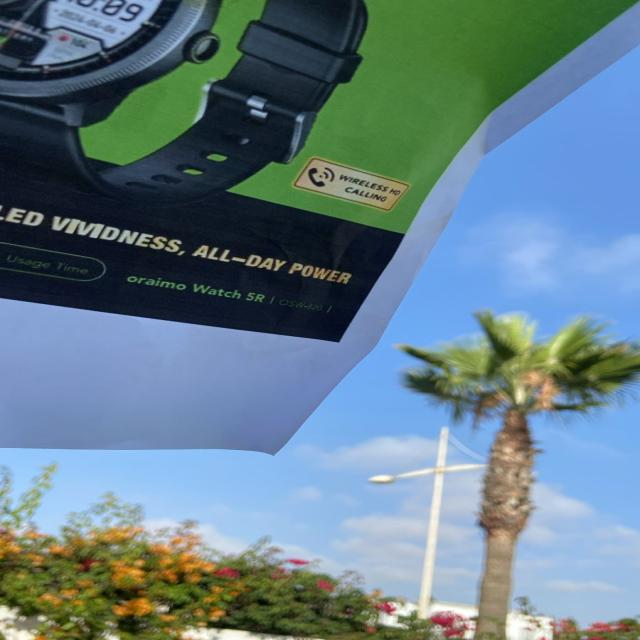Oraimo Watch 5R OSW-820: (127, 270, 350, 327)
